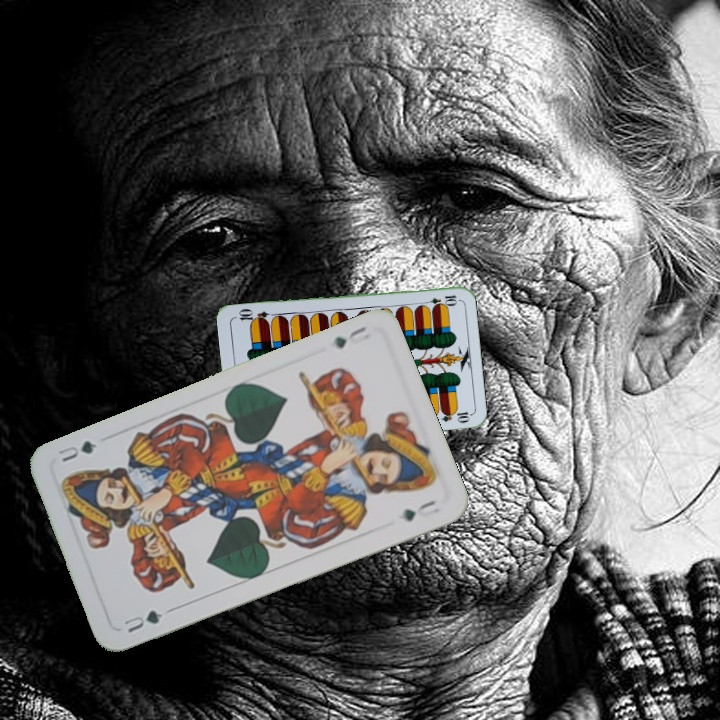E10: (419, 291, 460, 308)
GU: (120, 606, 165, 636), (328, 322, 374, 351)
